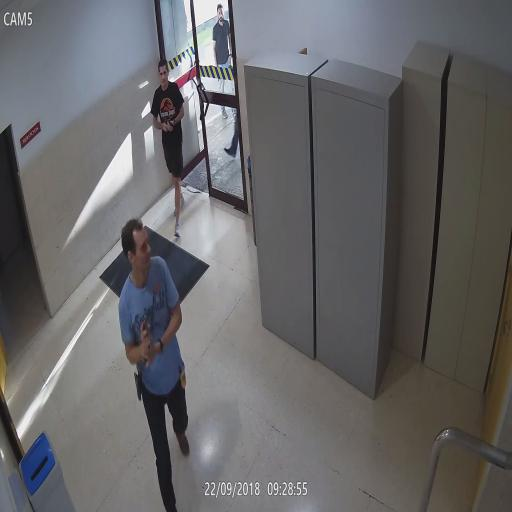Handgun: (140, 314, 153, 352), (160, 118, 175, 132)
